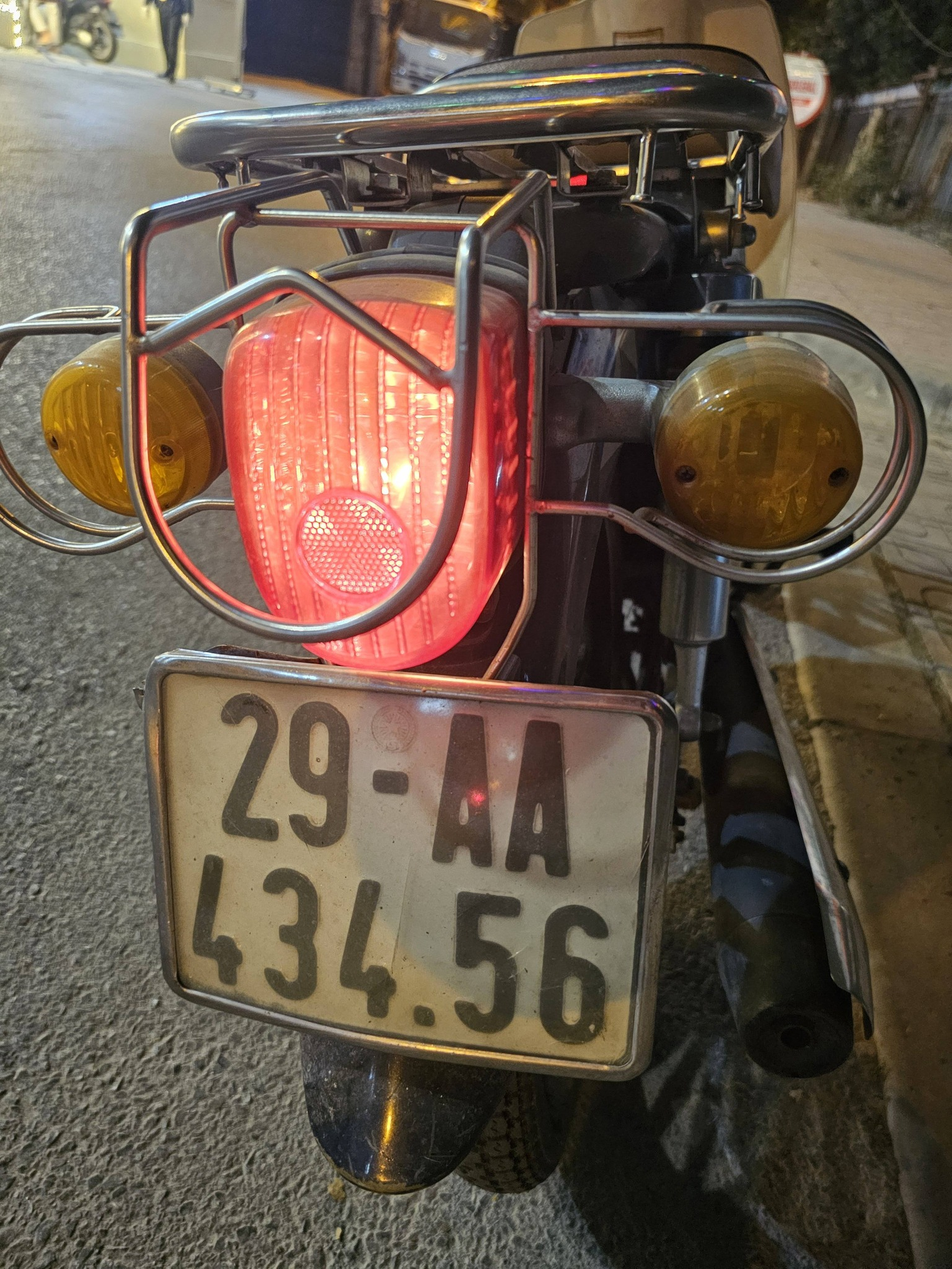bien_so: (137, 634, 684, 1092)
